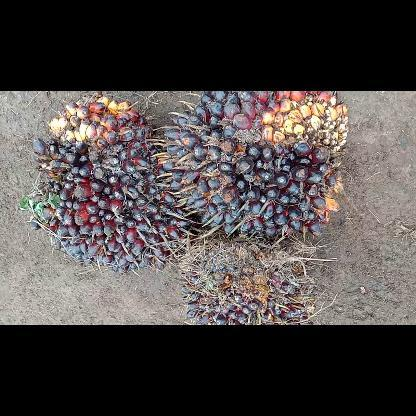TBS mentah: (23, 90, 203, 272), (160, 91, 352, 242), (180, 238, 316, 324)
